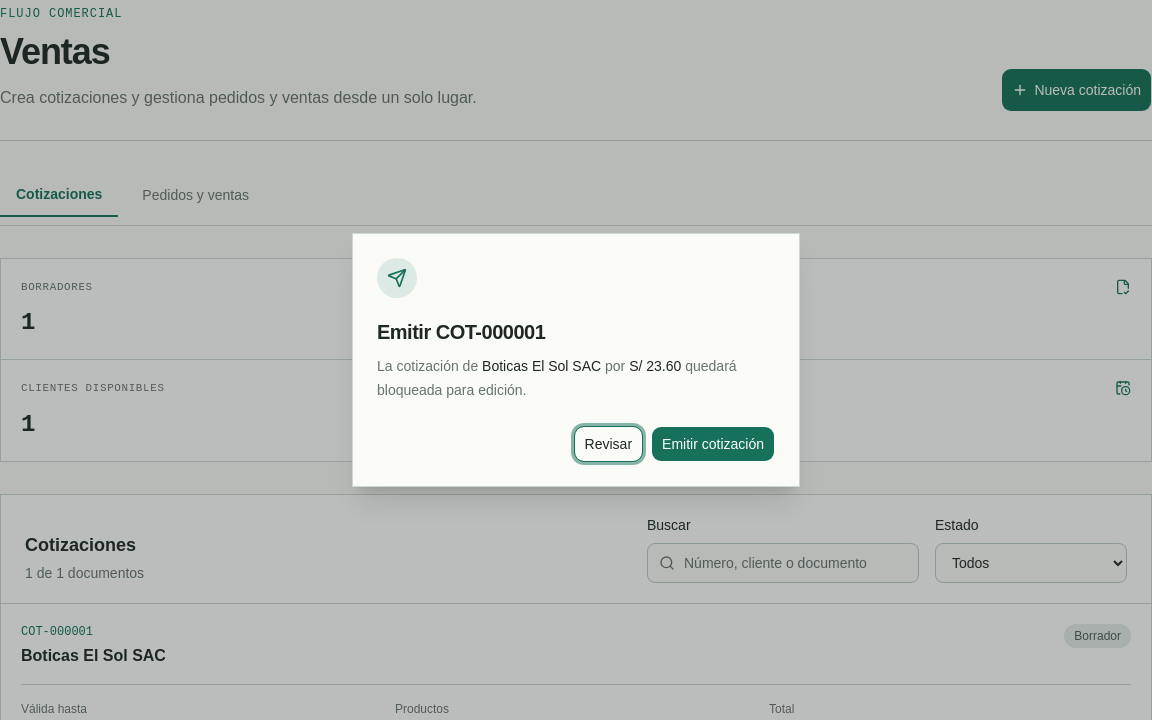
VentasPage › muestra en la página el motivo cuando la emisión es rechazada
Earlier steps of the test are not shown.
Click the button "Emitir cotización".
click(713, 444)  # box [651,426,775,462]
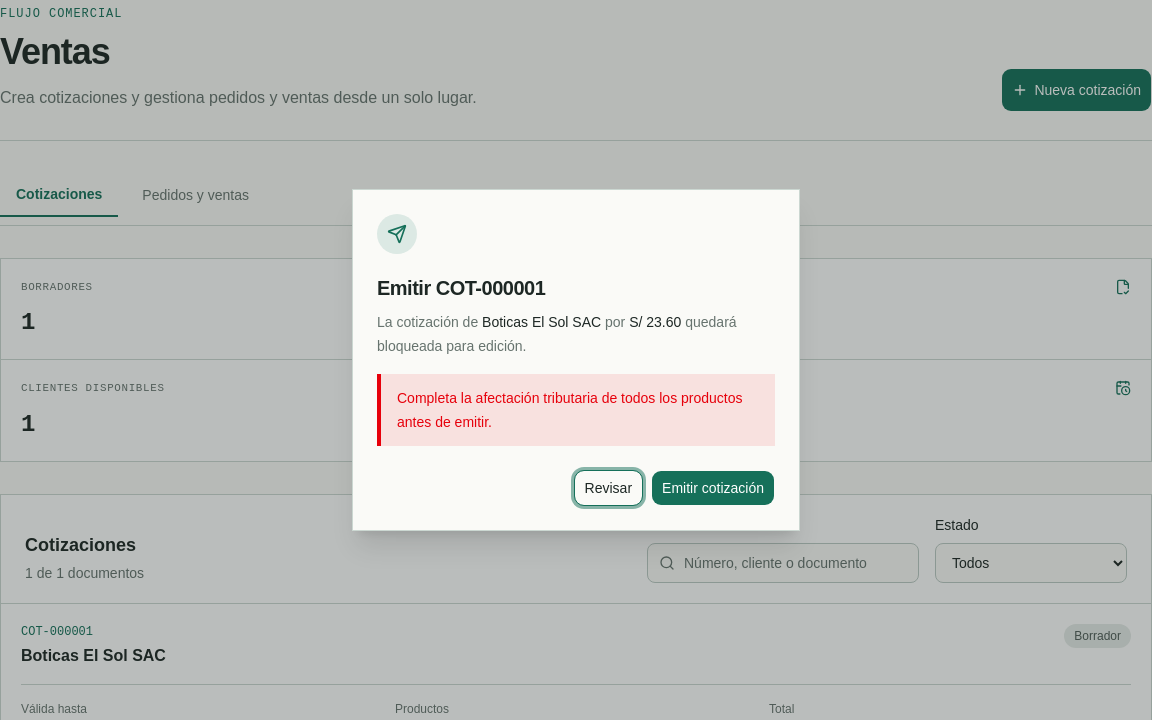
Check: the text "COT-000001" is shown, box [21,625,93,639]
Check: the message reads "Completa la afectación tributaria de todos los productos antes de emitir.", box [397,390,742,430]
